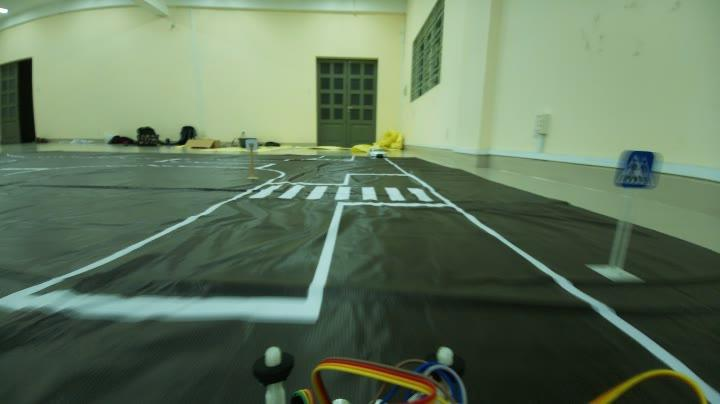crosswalk: (612, 147, 664, 192)
